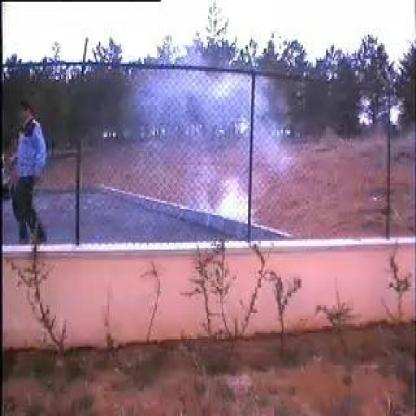-: (139, 64, 267, 220)
